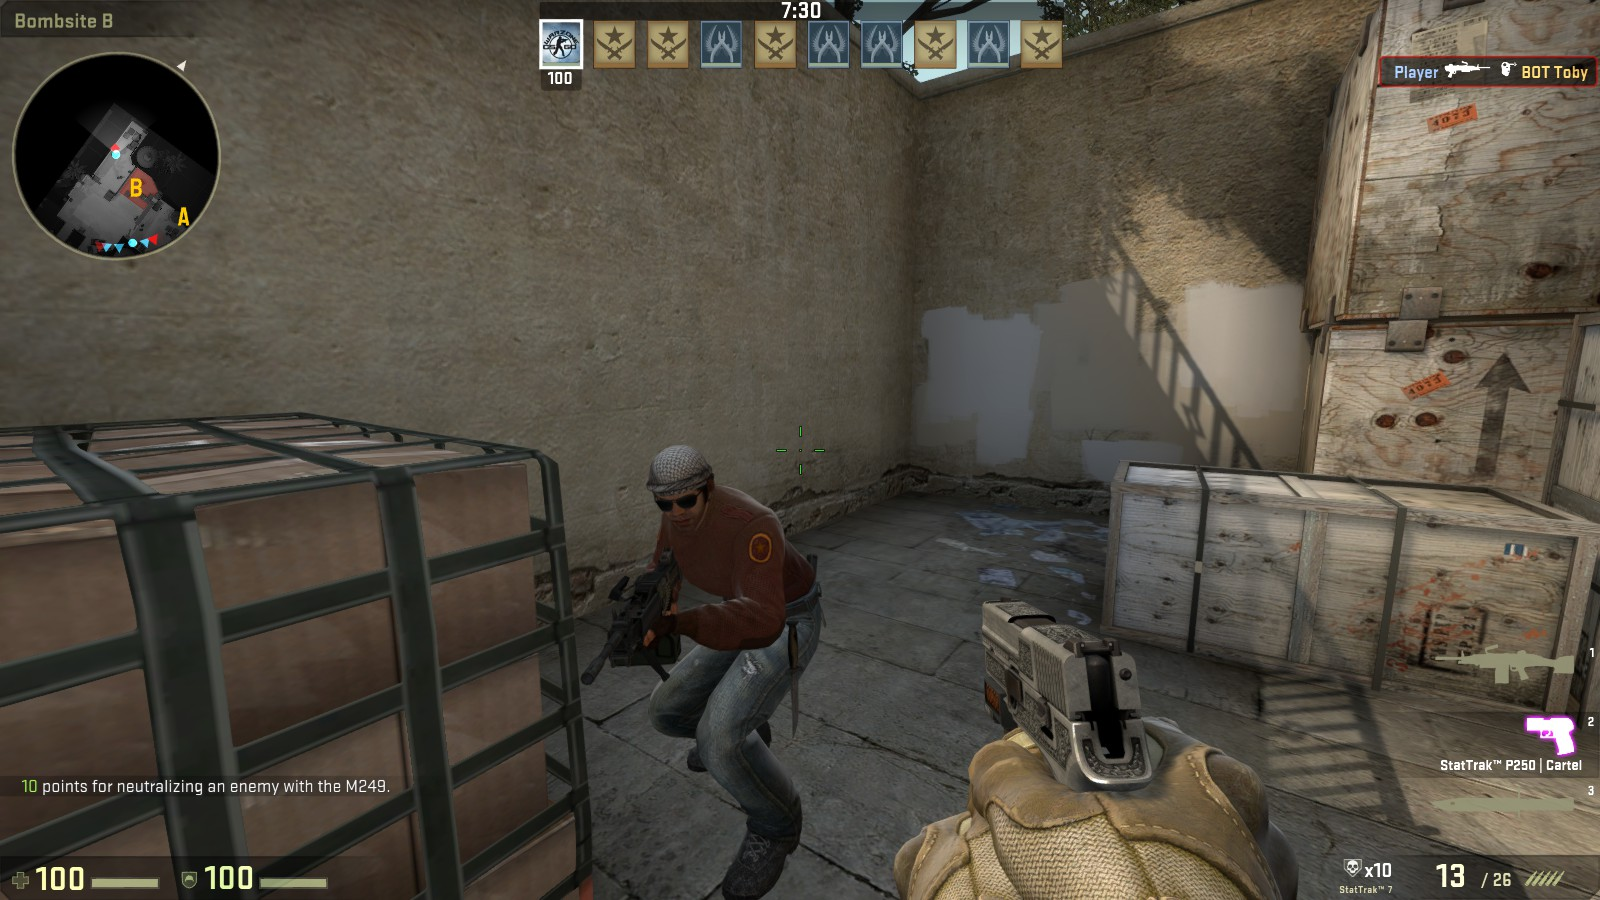t: (599, 429, 829, 900)
th: (638, 437, 719, 536)
